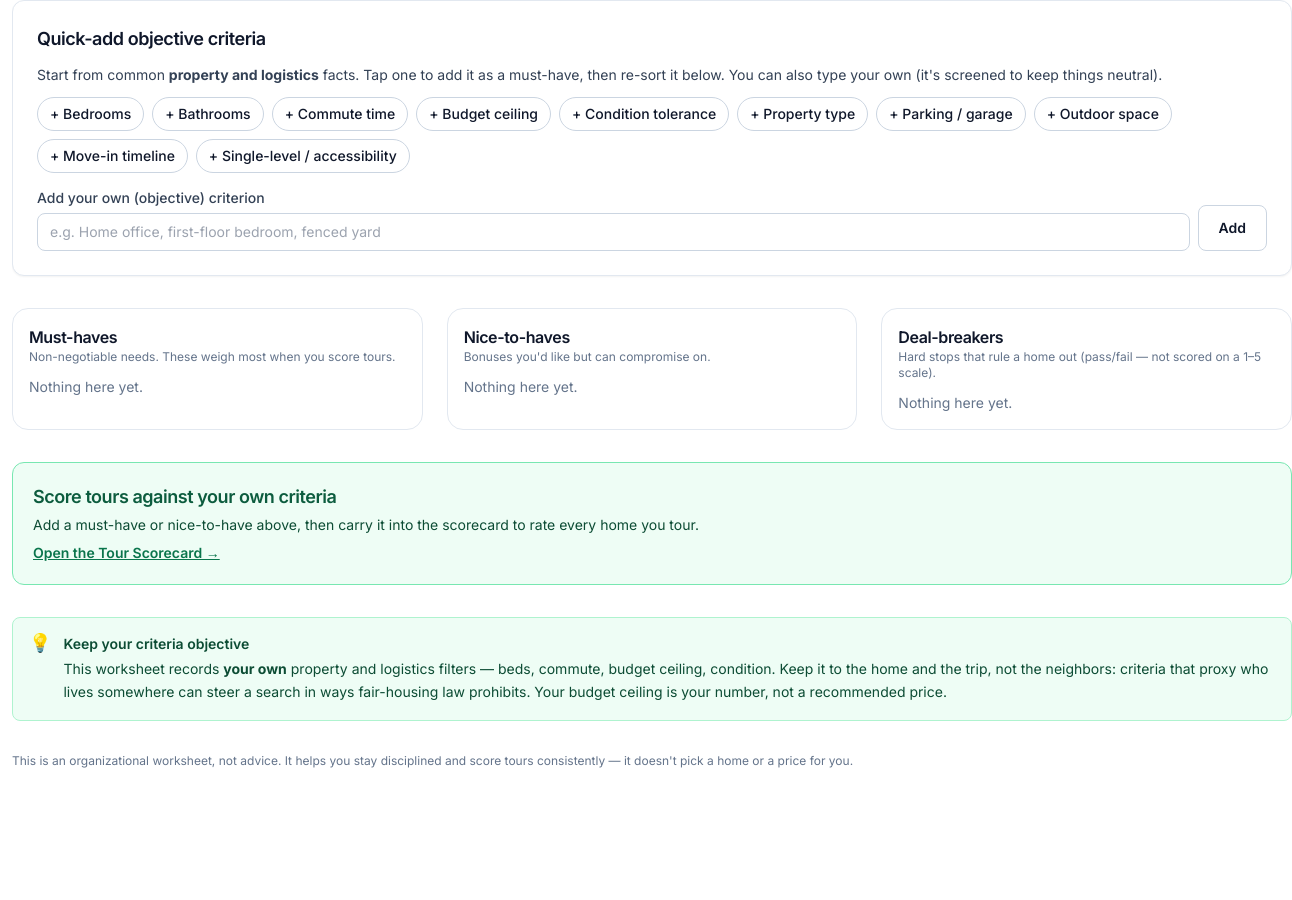
Scenario: CriteriaWorksheet › adds a suggested criterion as a must-have
Click the button "+ Bedrooms" at (91,114), box x1=37 y1=97 x2=144 y2=131
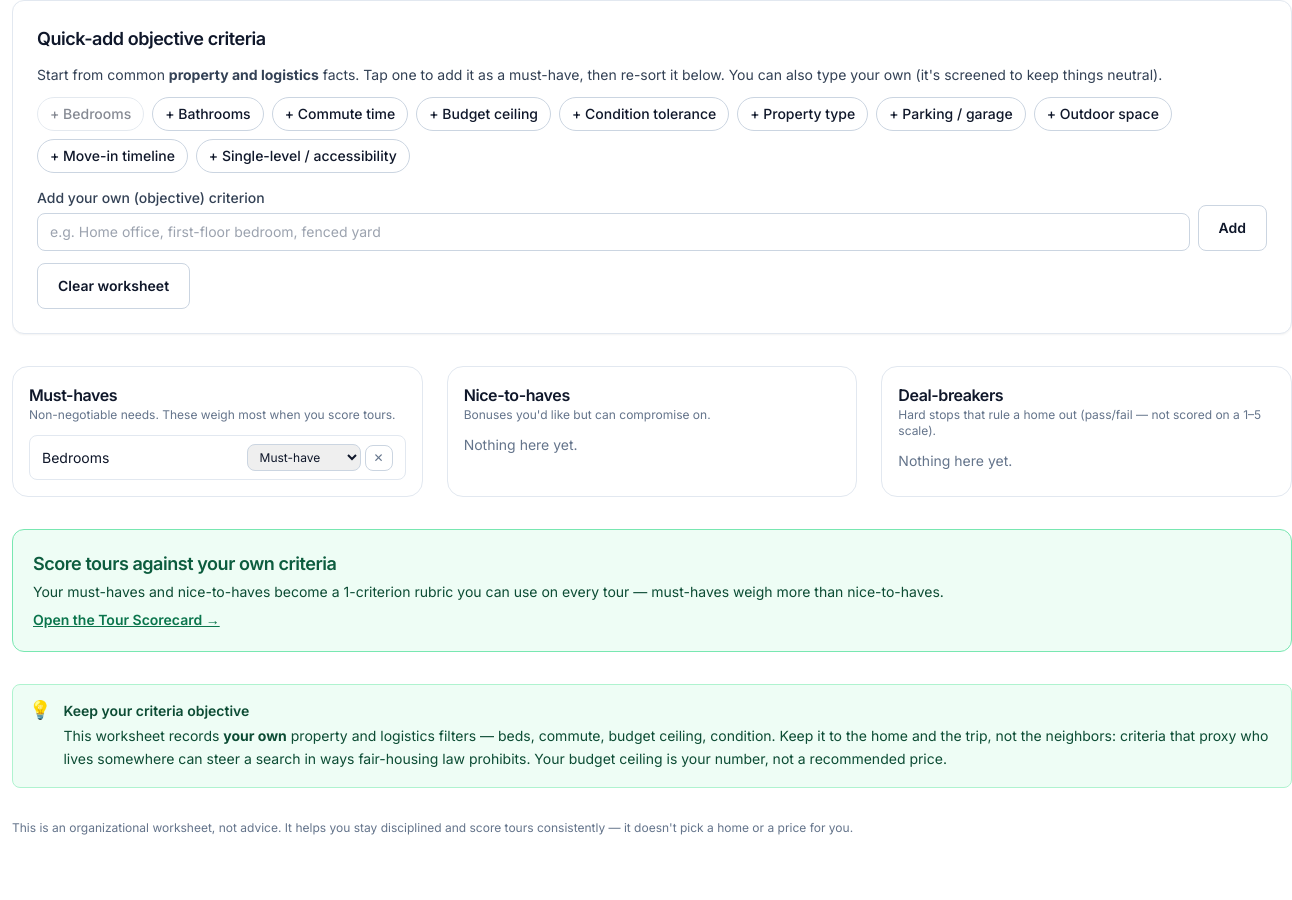
Now the text "Bedrooms" is shown, box x1=42 y1=448 x2=109 y2=468
